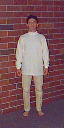person: (11, 16, 56, 118)
